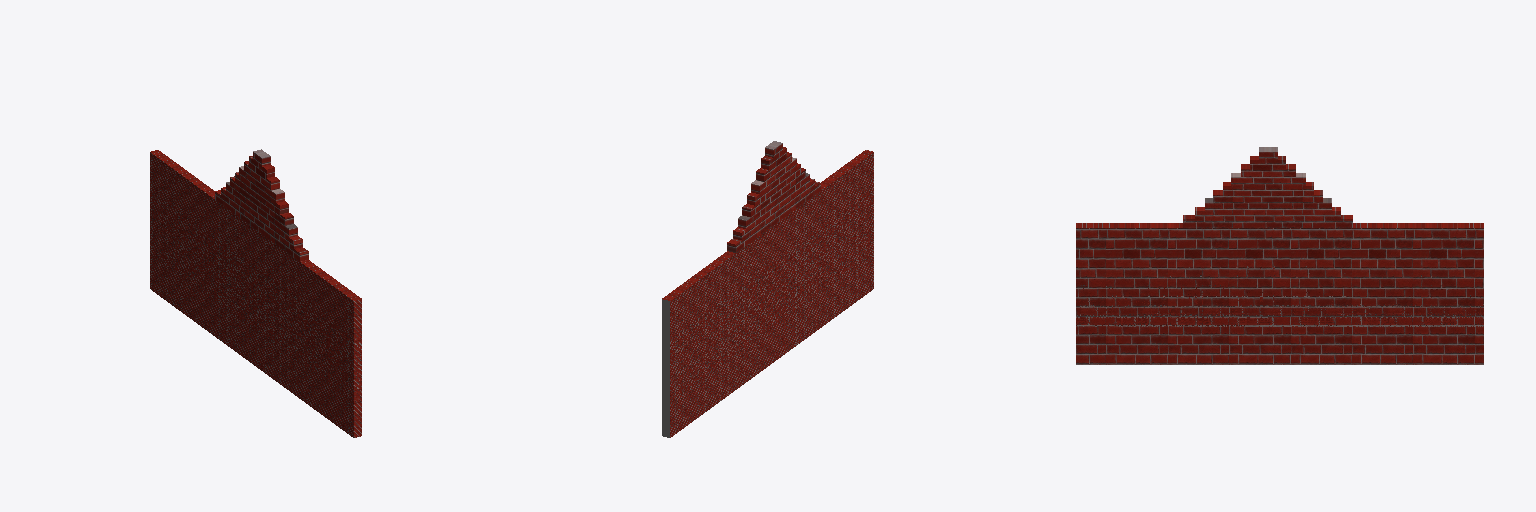
3 renders of one model, left to right at view 1: azimuth 30°, elevation 25°; view 2: azimuth 150°, elevation 25°; view 3: azimuth 270°, elevation 25°, orthographic.
Visible parts, largest first — view 1: pCube13, pCube14, pCube11; view 2: pCube13, pCube14, pCube11; view 3: pCube13, pCube14, pCube11.
Boxes of the visible parts, <box> form: pCube13: <box>150,150,361,400</box>; pCube14: <box>150,190,361,437</box>; pCube11: <box>215,149,308,261</box>; pCube13: <box>662,150,873,400</box>; pCube14: <box>662,191,873,437</box>; pCube11: <box>727,141,820,252</box>; pCube13: <box>1076,223,1483,326</box>; pCube14: <box>1076,266,1483,364</box>; pCube11: <box>1183,147,1352,227</box>.
Size of the model in its own units: 1.23 by 29.15 by 50.62.
3 materials, 1 textured.